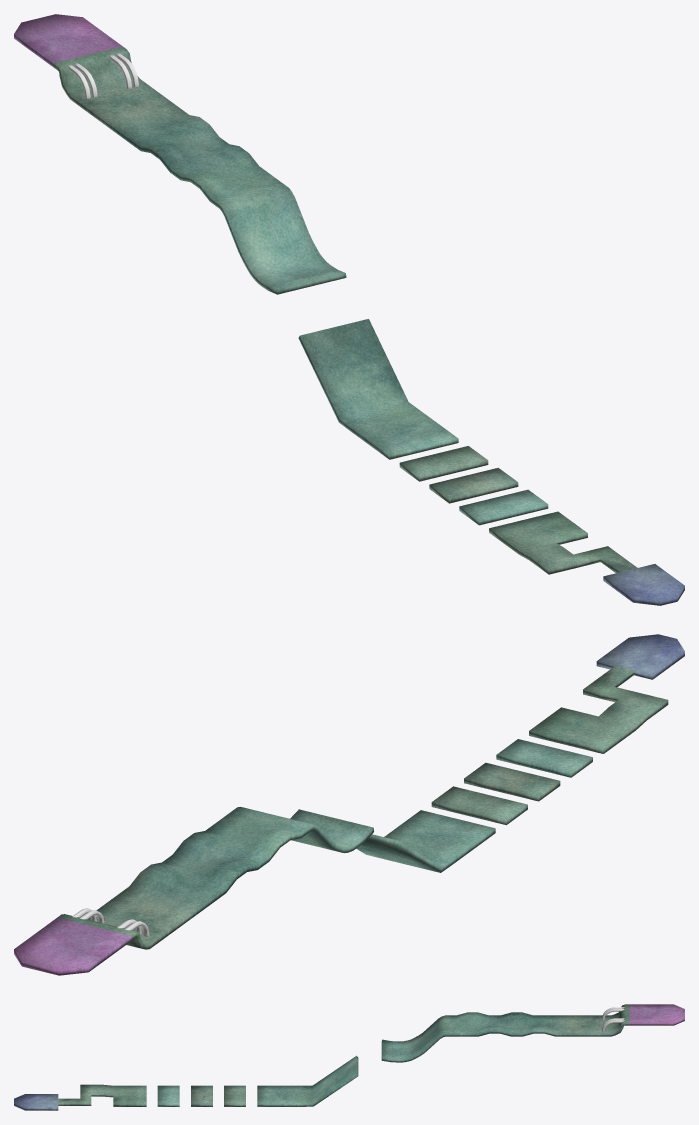
The model's file is Level1.dae.
The picture shows the model from 3 angles, top to bottom: view 1: azimuth 30°, elevation 25°; view 2: azimuth 150°, elevation 25°; view 3: azimuth 270°, elevation 25°; orthographic projection. The views are drawn at different scales.
Visible parts, largest first — view 1: Plane; view 2: Plane; view 3: Plane.
Part boxes in pixels (x1,y1,x2,y2): Plane: (14,14,684,605); Plane: (14,634,684,975); Plane: (14,1004,684,1110).
Size of what is drawn, in the model's own units: 5 by 60.7 by 8.36.
Materials: 4 (3 with a texture image).
